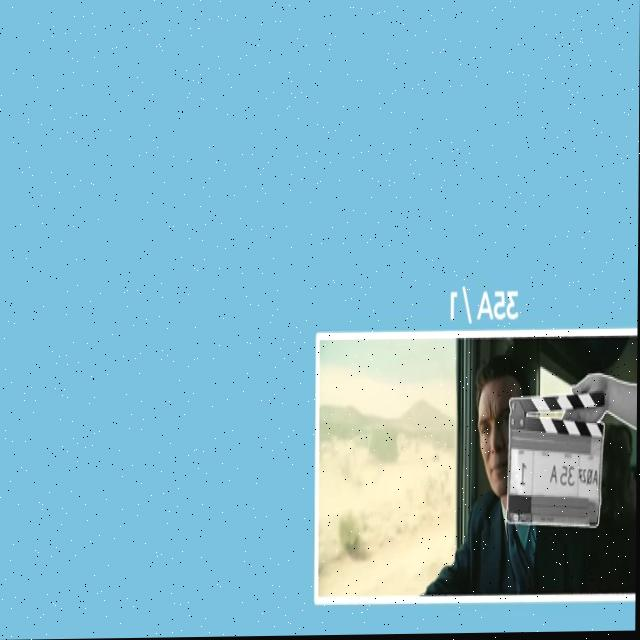Clapperboard: (506, 383, 605, 531)
